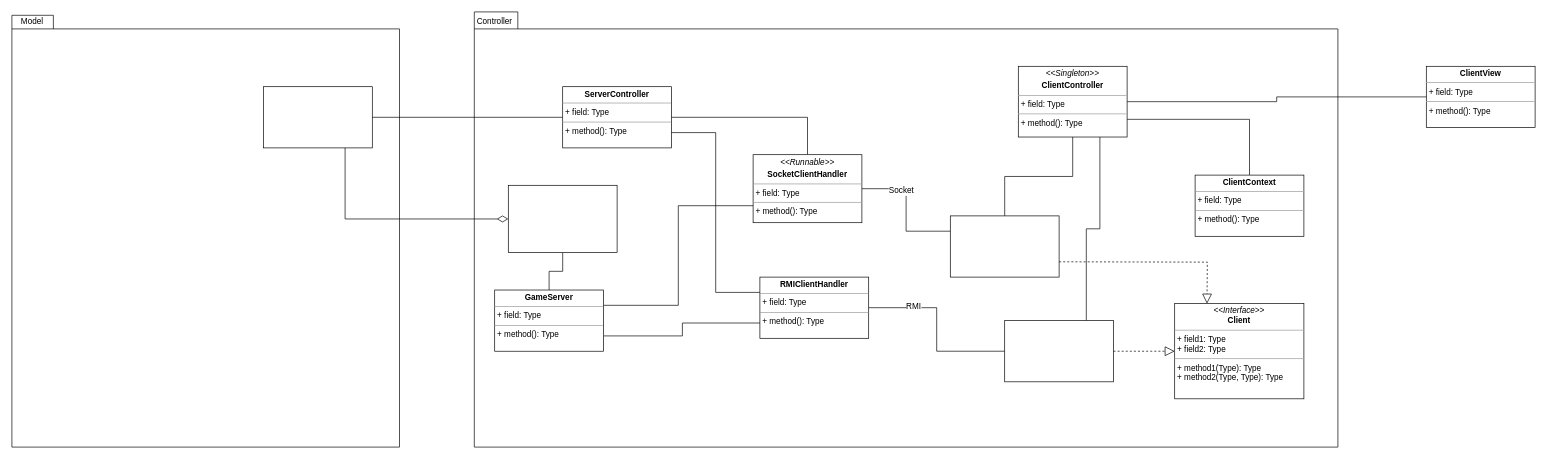
Some shapes in this 1547 by 459 pixel diagram are drawn without their labels. The shapes that lost their labels are listed below. From the top down, each one's box as (x1, y1, x2, y2) in pixels, then its label:
(263, 86, 372, 148): Game + field: Type + method(): Type
(508, 185, 617, 253): <<Singleton>> GameManager + field: Type + method(): Type
(950, 215, 1059, 277): SocketClient + field: Type + method(): Type
(1004, 320, 1114, 382): RMIClient + field: Type + method(): Type
